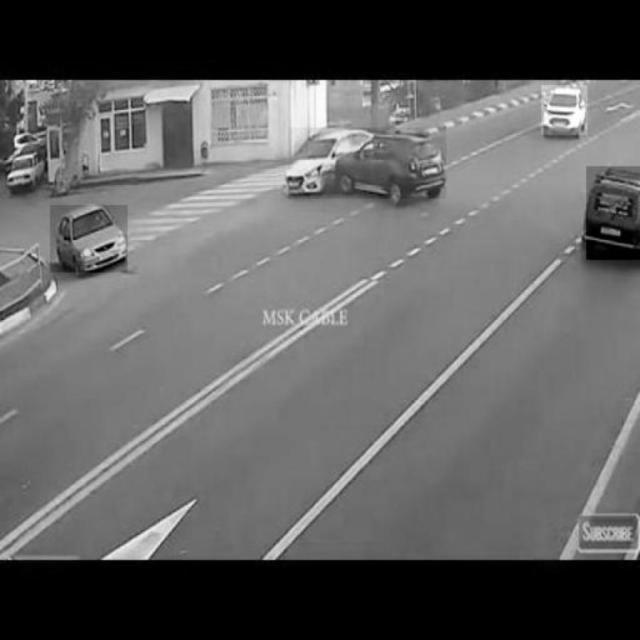accident: (289, 128, 446, 199)
vehicle: (51, 206, 128, 273), (586, 167, 640, 260), (542, 86, 588, 136)
